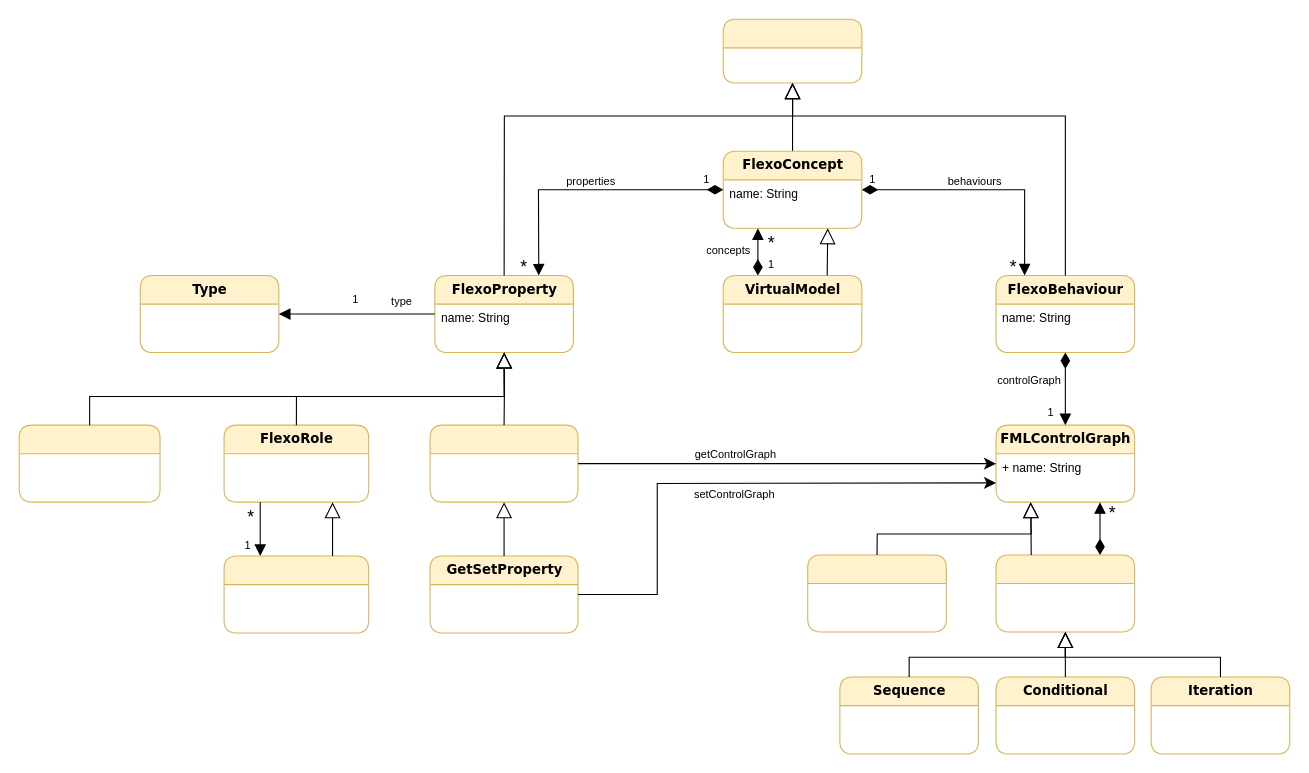
The diagram is 1309 pixels wide and 773 high, and some of its shapes have lost their labels. The centre of each missing label's shape, as x and y in pixels:
"CompositeGraph" belongs at pixel 1065 593.
"EditionAction" belongs at pixel 876 593.
"FMLObject" belongs at pixel 792 50.
"FMLVariable" belongs at pixel 89 463.
"GetProperty" belongs at pixel 503 463.
"ModelSlot" belongs at pixel 296 594.
